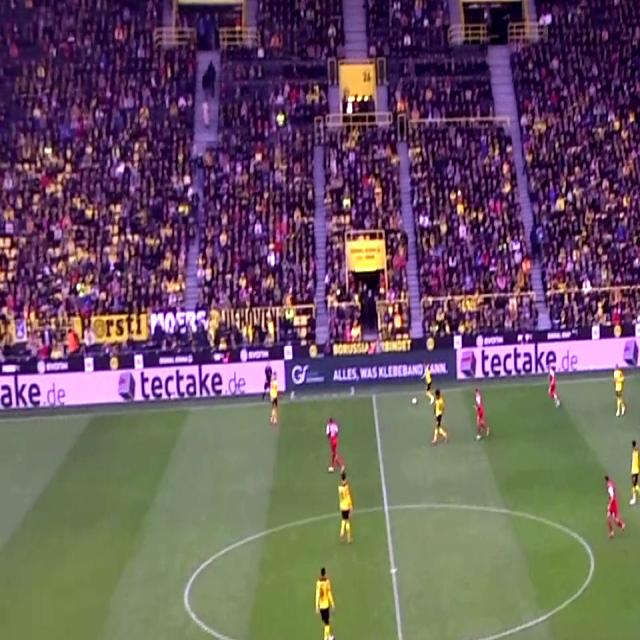ball: (411, 395, 419, 413)
goalkeeper: (638, 389, 640, 456)
soccer-player: (306, 553, 338, 640), (605, 467, 629, 545), (337, 464, 359, 549), (324, 410, 349, 482), (473, 384, 492, 448), (430, 388, 449, 452), (547, 346, 565, 411), (268, 368, 285, 432), (614, 351, 630, 418), (628, 436, 640, 512), (422, 351, 438, 407)
